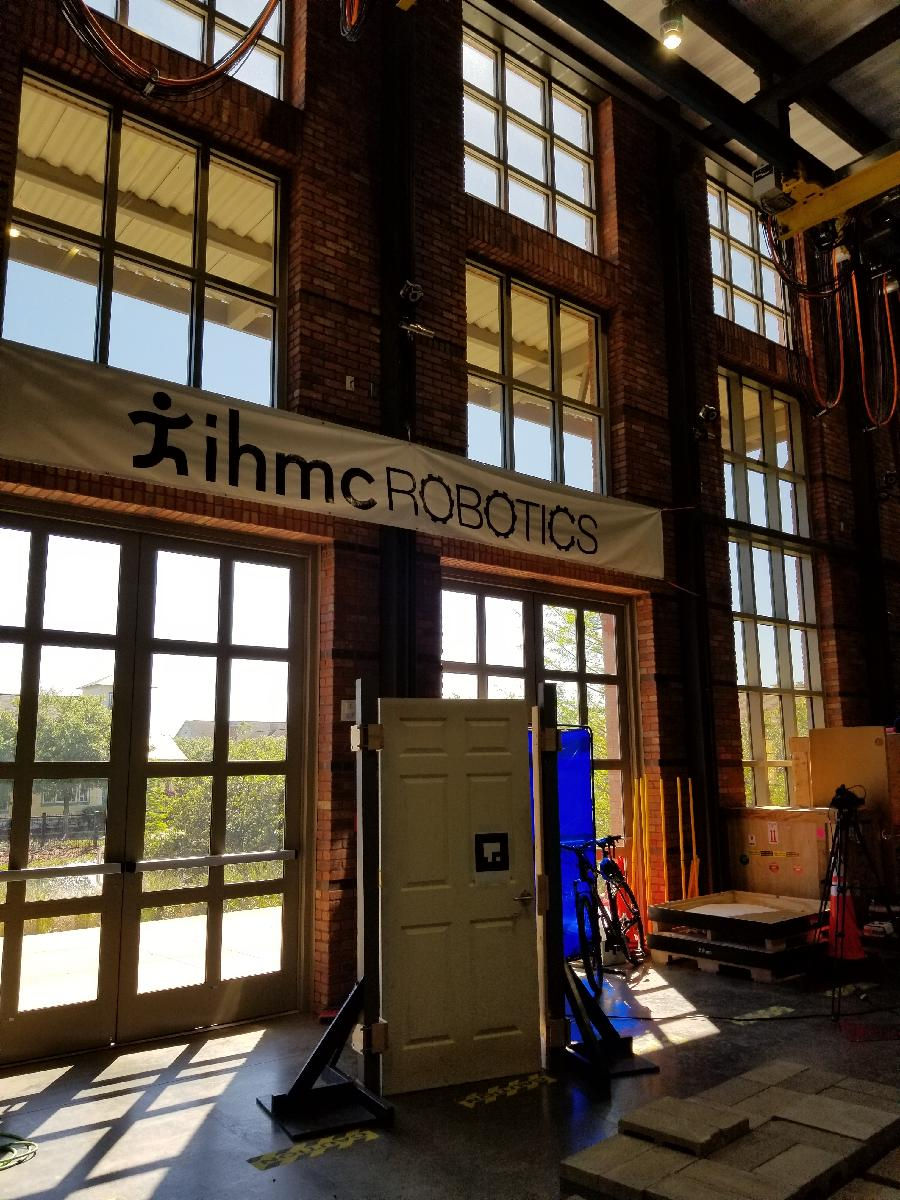door: (374, 697, 545, 1099)
doorHandle: (512, 888, 541, 907)
